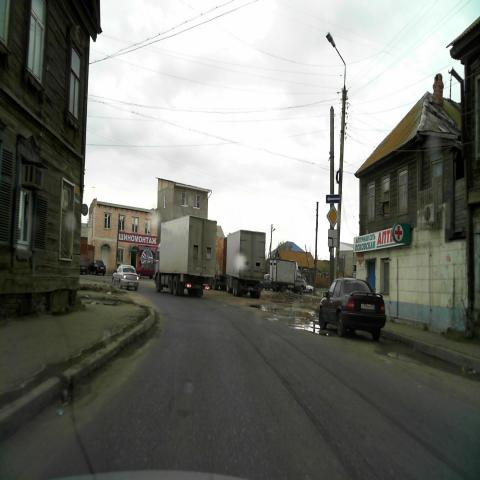5_7_2: (326, 193, 340, 204)
8_13: (328, 228, 338, 248)
